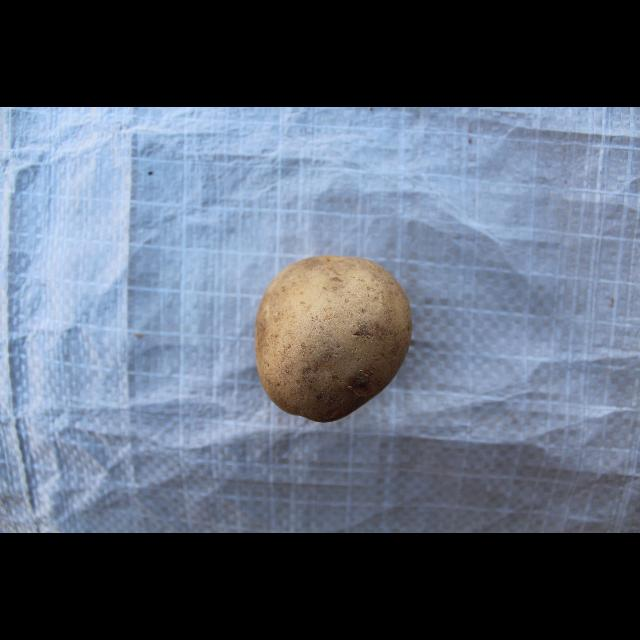Diseased-fungal potato: (246, 252, 414, 428)
